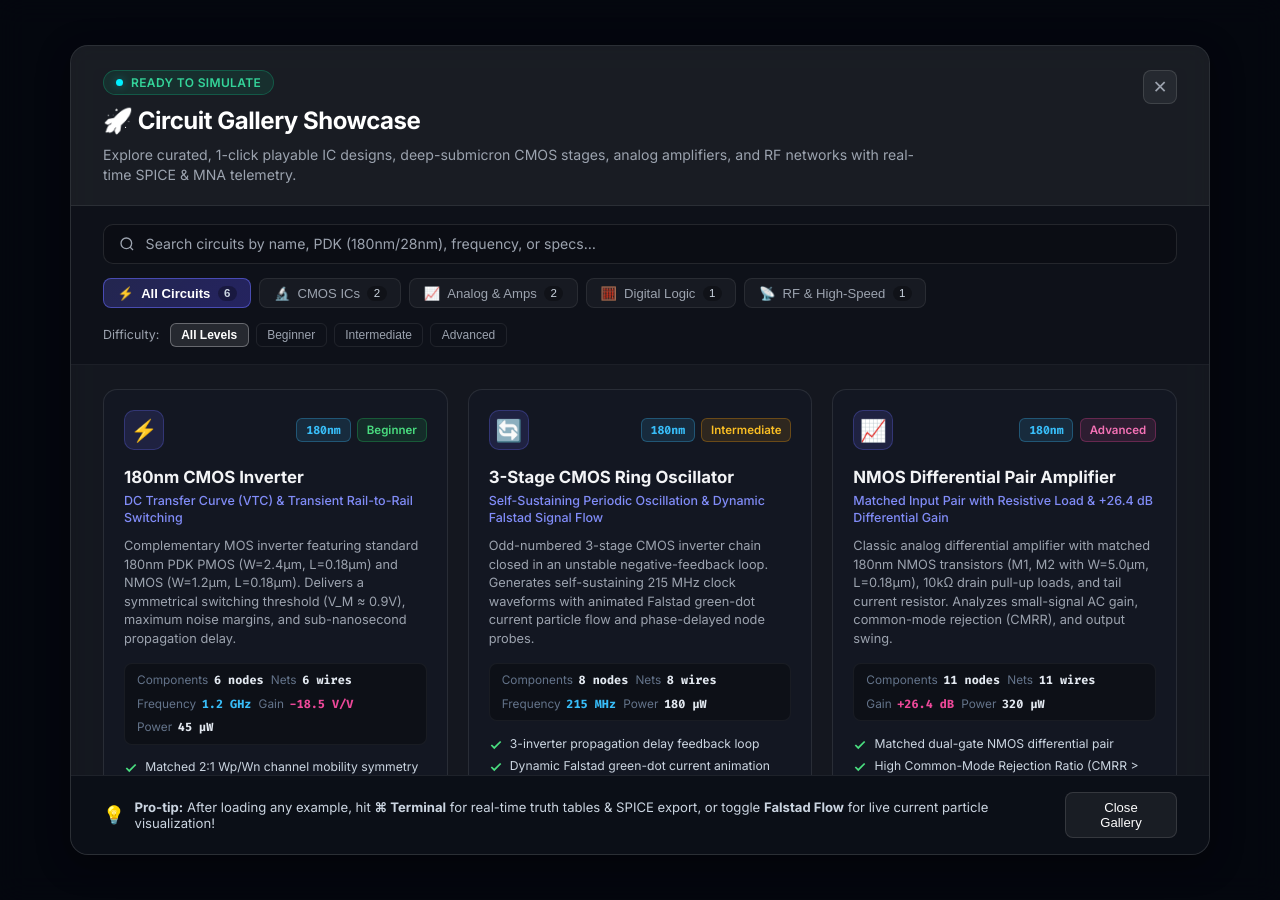
Test: CircuitGalleryModal › filters circuits by category tabs
// Filter by CMOS ICs
Step 1. Click the button "🔬 CMOS ICs 2" → (330, 293), box [259, 278, 401, 308]
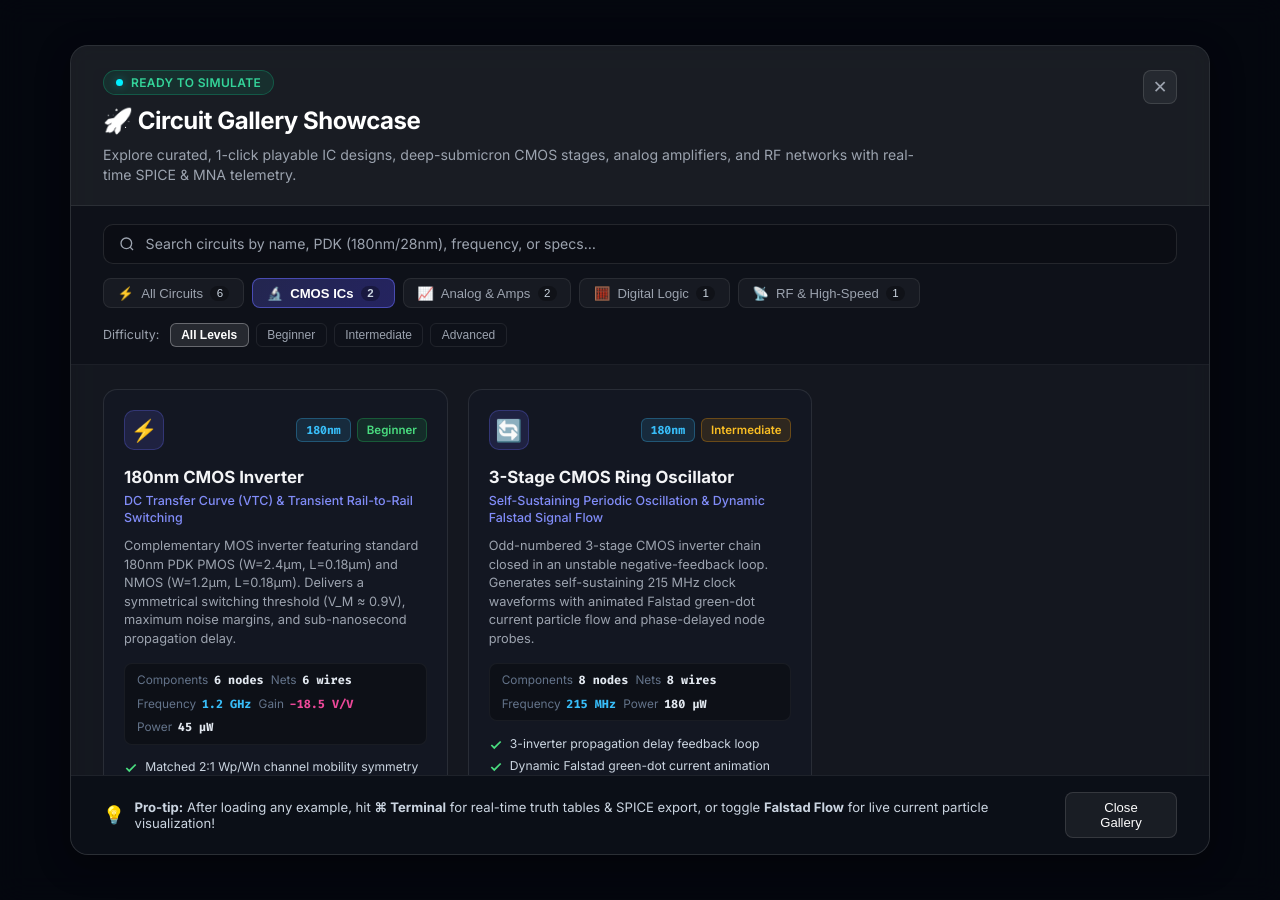
Expected: the heading "180nm CMOS Inverter" is shown, [124, 466, 304, 486]
Expected: the heading "3-Stage CMOS Ring Oscillator" is shown, [489, 466, 734, 486]
// Filter by Digital Logic
Step 2. Click the button "🧮 Digital Logic 1" → (655, 293), box [579, 278, 730, 308]
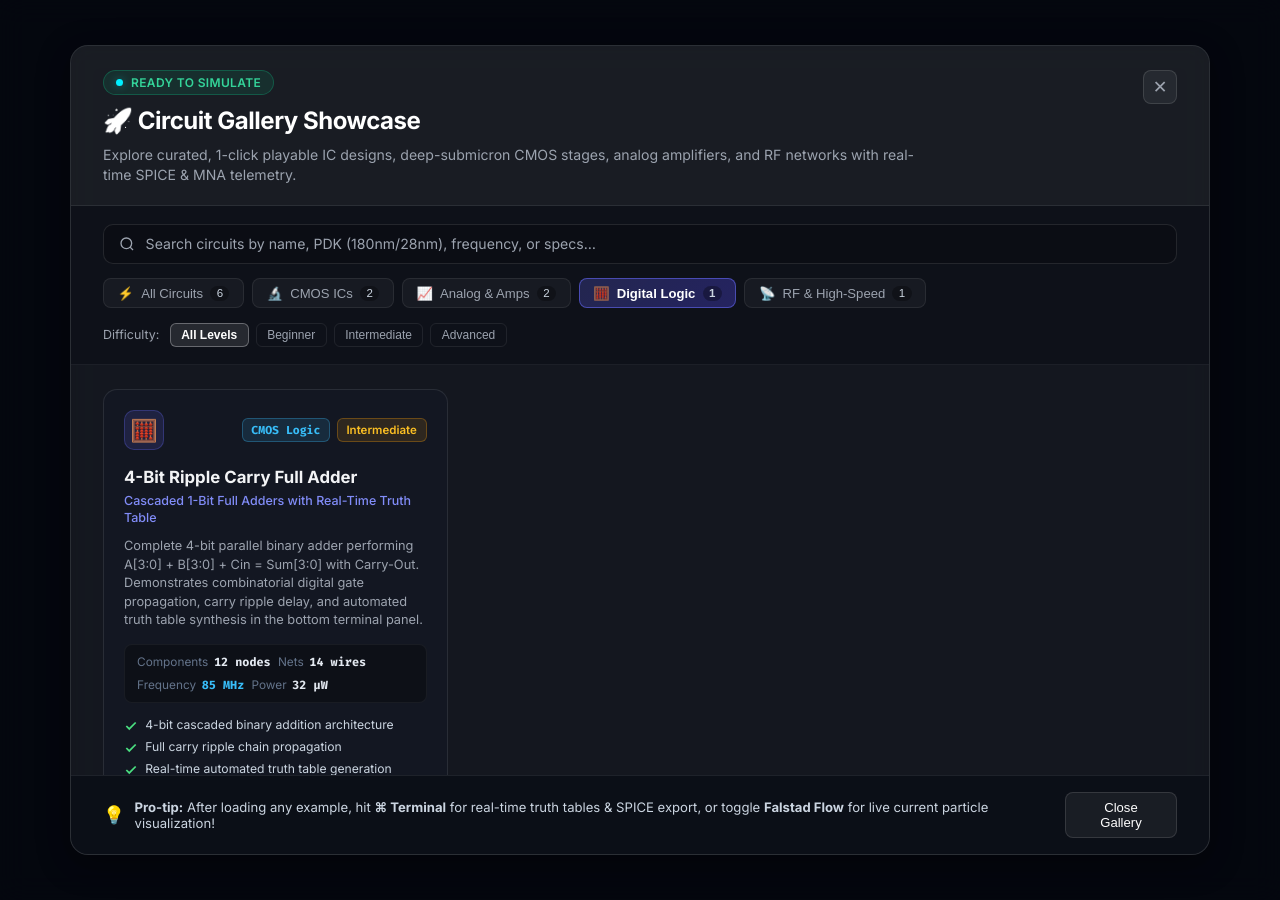
Now the heading "4-Bit Ripple Carry Full Adder" is shown, box [124, 466, 357, 486]
Now the heading "180nm CMOS Inverter" is gone
// Filter by RF & High-Speed
Step 3. Click the button "📡 RF & High-Speed 1" → (835, 293), box [744, 278, 926, 308]
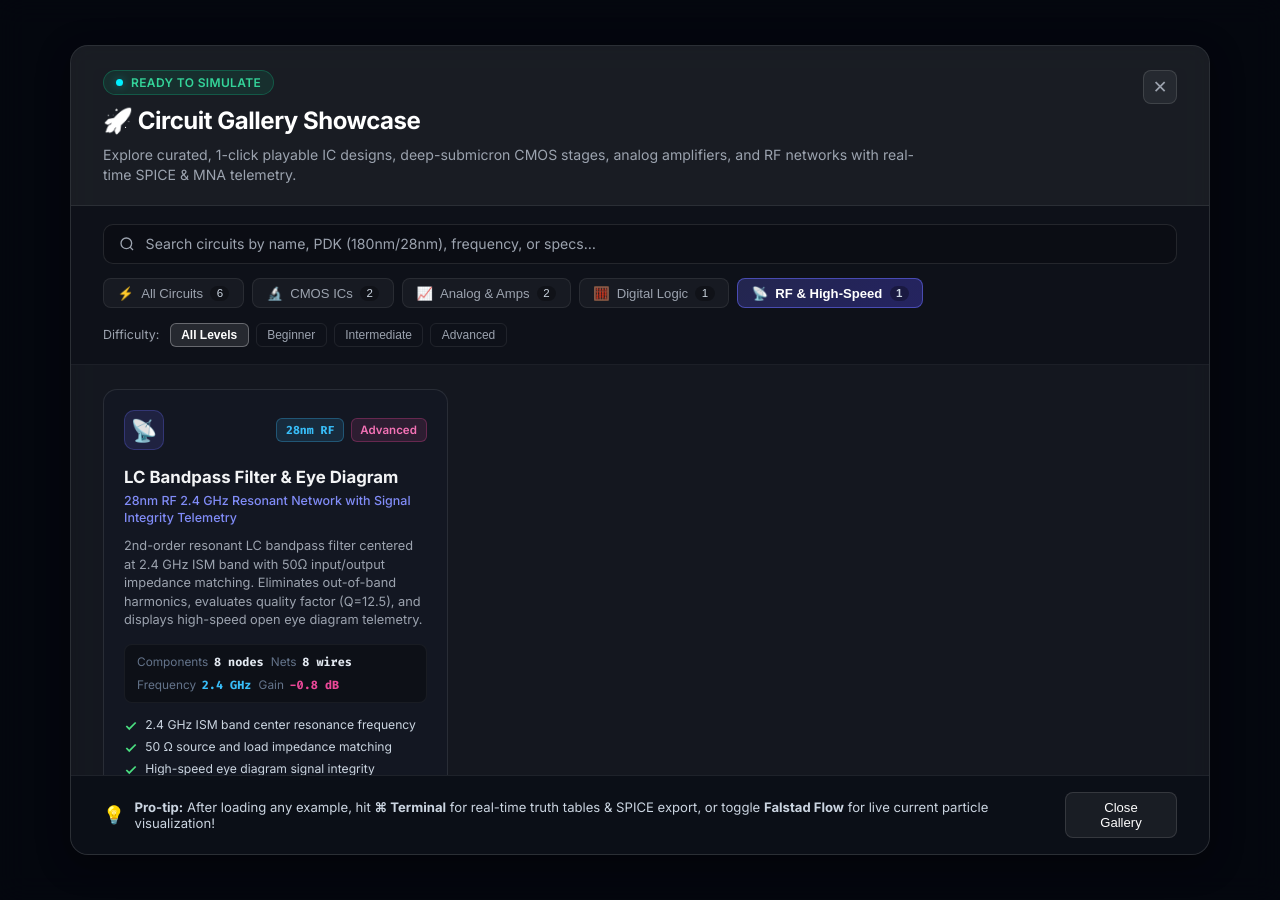
Now the heading "LC Bandpass Filter & Eye Diagram" is shown, box [124, 464, 427, 490]
